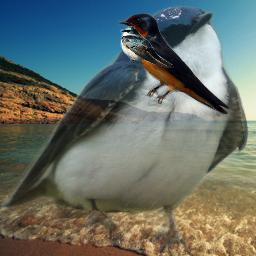Swallow: (1, 5, 251, 255), (117, 13, 230, 117), (120, 26, 174, 68)
